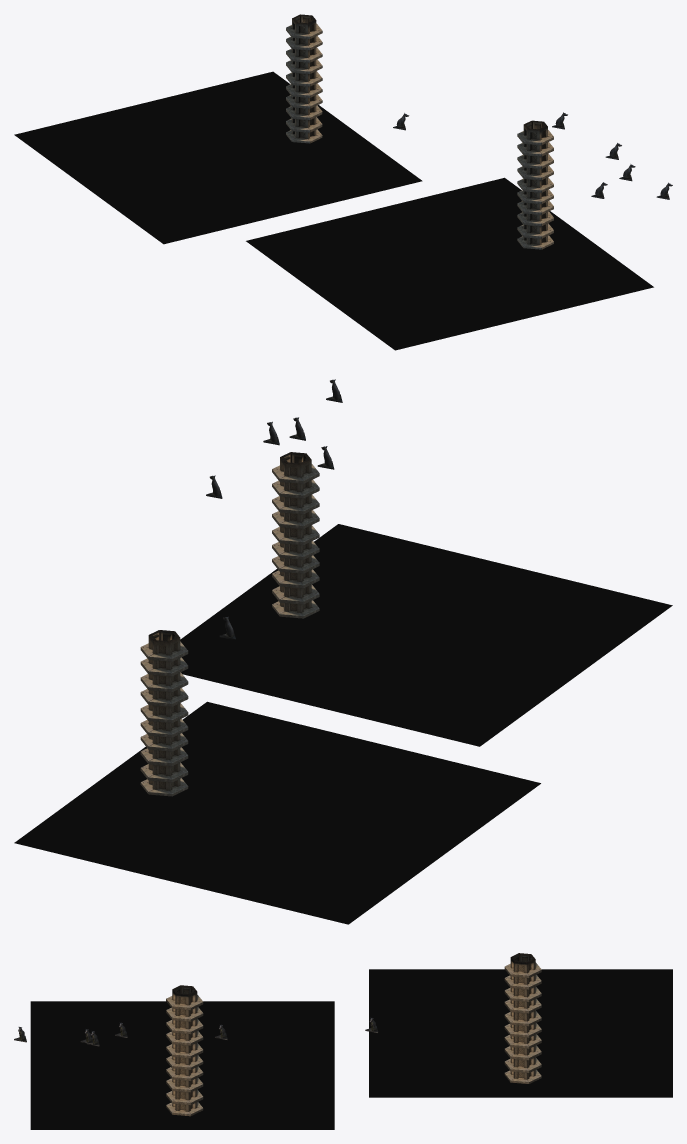
The model's file is pegaso_032.dae.
The picture shows the model from 3 angles, top to bottom: view 1: azimuth 30°, elevation 25°; view 2: azimuth 150°, elevation 25°; view 3: azimuth 270°, elevation 25°; orthographic projection. The views are drawn at different scales.
Visible parts, largest first — view 1: torre_ombra (×2); view 2: torre_ombra (×2); view 3: torre_ombra (×2).
Part boxes in pixels (box(x1,y1,x2,y2)): torre_ombra (×2): box(14, 71, 653, 350); torre_ombra (×2): box(14, 524, 672, 924); torre_ombra (×2): box(30, 969, 672, 1129).
Bounding box in the file's own units: 8356 × 2777 × 13953.
Materials: 9 (8 with a texture image).
